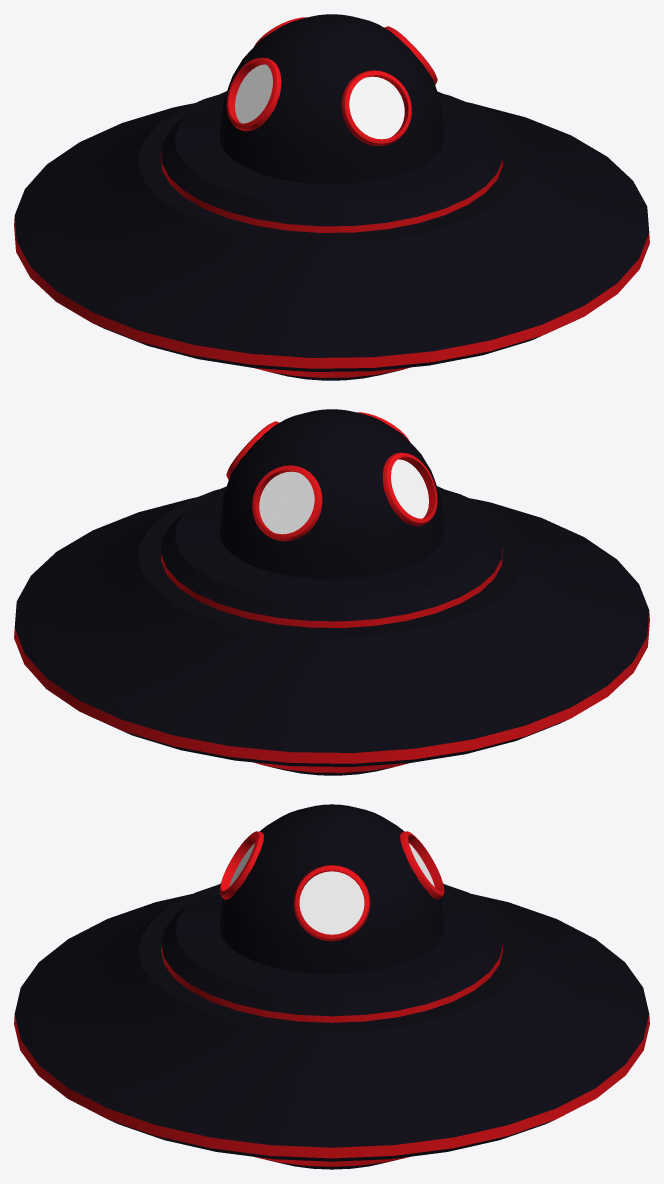
Rendered from ufo.fbx.
3 views of the same model, one above another, from view 1: azimuth 30°, elevation 25°; view 2: azimuth 150°, elevation 25°; view 3: azimuth 270°, elevation 25° (orthographic).
Visible parts, largest first — view 1: UFO; view 2: UFO; view 3: UFO.
Part boxes in pixels (box(x1,y1,x2,y2)): UFO: box(14, 14, 649, 380); UFO: box(14, 409, 649, 775); UFO: box(14, 804, 649, 1169).
Size of the model in its own units: 249 by 143 by 249.
